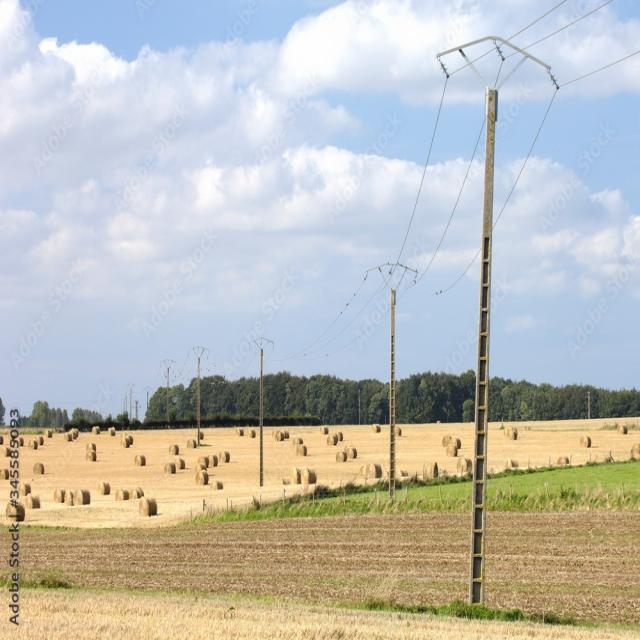Electric pole: (470, 88, 499, 605), (389, 289, 396, 502)
